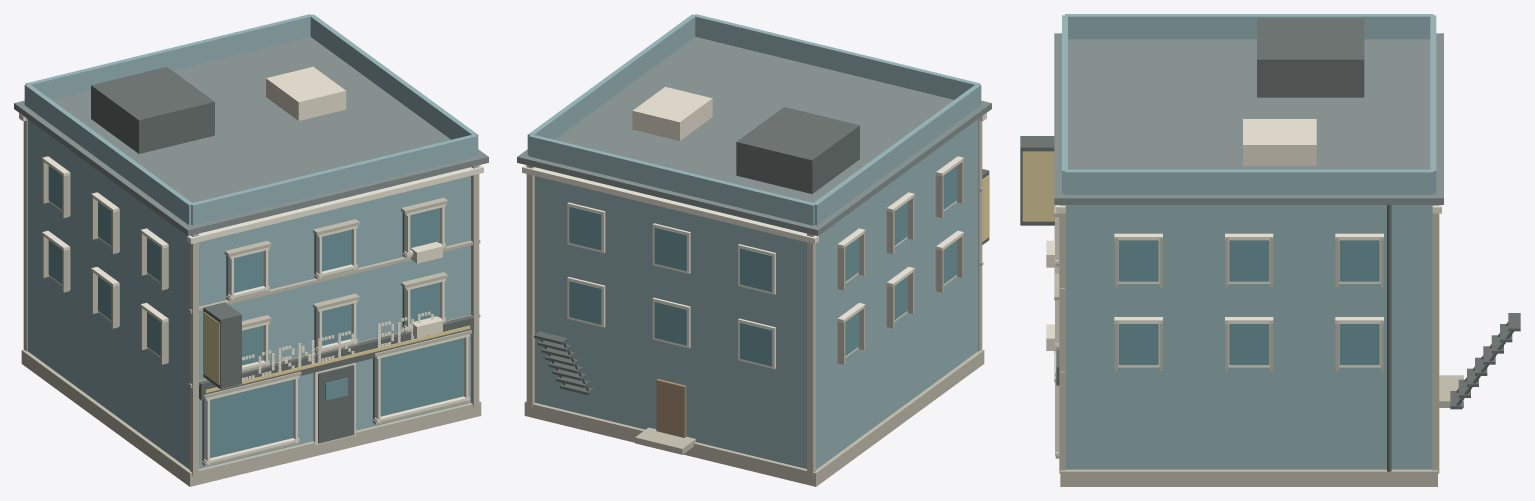
Rendered from urban-2.glb.
3 views of the same model, side by side, from view 1: azimuth 30°, elevation 25°; view 2: azimuth 150°, elevation 25°; view 3: azimuth 270°, elevation 25° (orthographic). The views are drawn at different scales.
Bounding box in the file's own units: 12.7 × 11.83 × 16.3.
